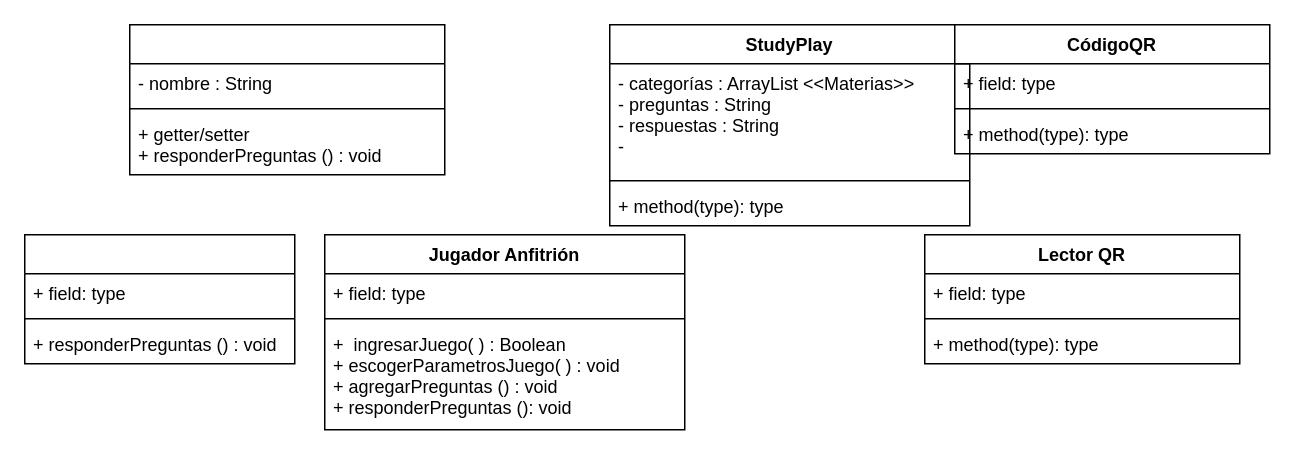
This 1295x455 diagram has some shape labels left out. Here are the shapes that lost their labels. From the top down, the box of each, then its label:
(128, 23, 445, 175): Jugador
(23, 233, 295, 364): Jugador Invitado
